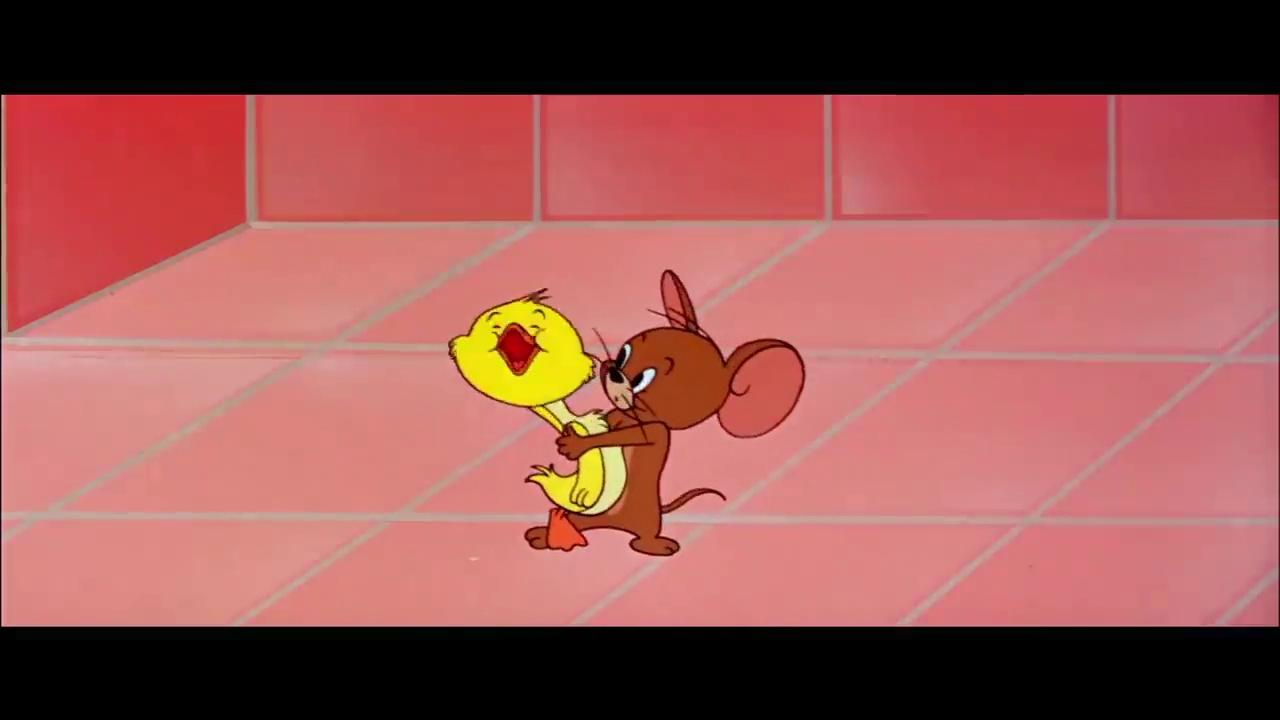Jerry: (523, 266, 808, 557)
